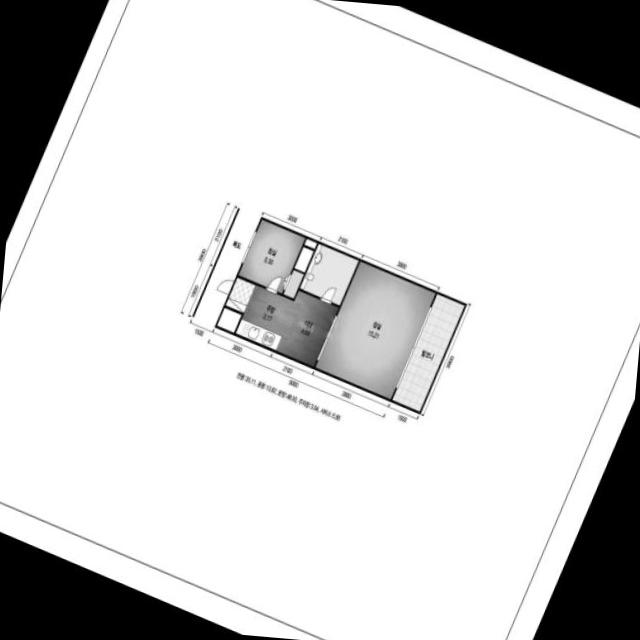background: (0, 0, 640, 640)
space_balconi: (391, 294, 464, 412)
space_bedroom: (314, 261, 435, 400), (237, 219, 305, 298)
space_front: (225, 277, 255, 313)
space_kitchen: (235, 285, 338, 367)
space_other: (216, 307, 241, 333), (294, 247, 313, 272), (303, 238, 317, 249)
space_toilet: (299, 243, 358, 306)
